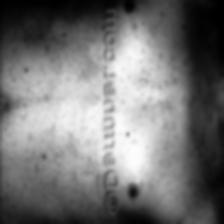Toxin: (27, 2, 96, 72), (31, 162, 41, 184)
